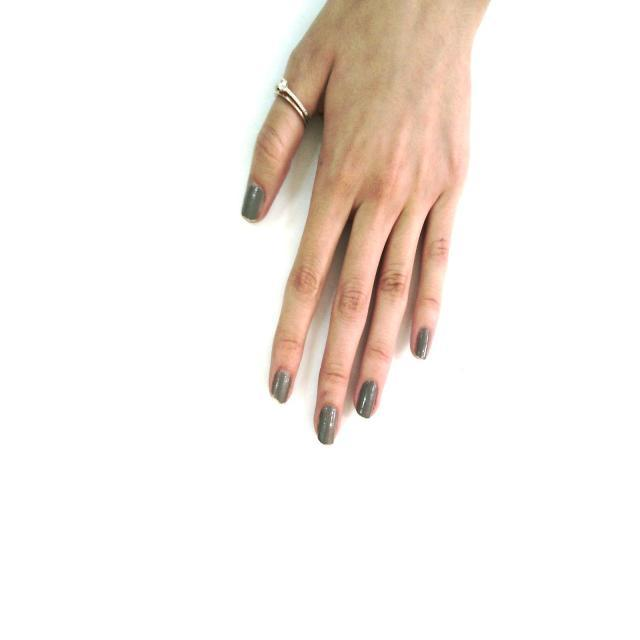Fingernail: (317, 405, 337, 445), (243, 183, 264, 220), (357, 382, 376, 418), (273, 369, 291, 403), (417, 330, 429, 361)
